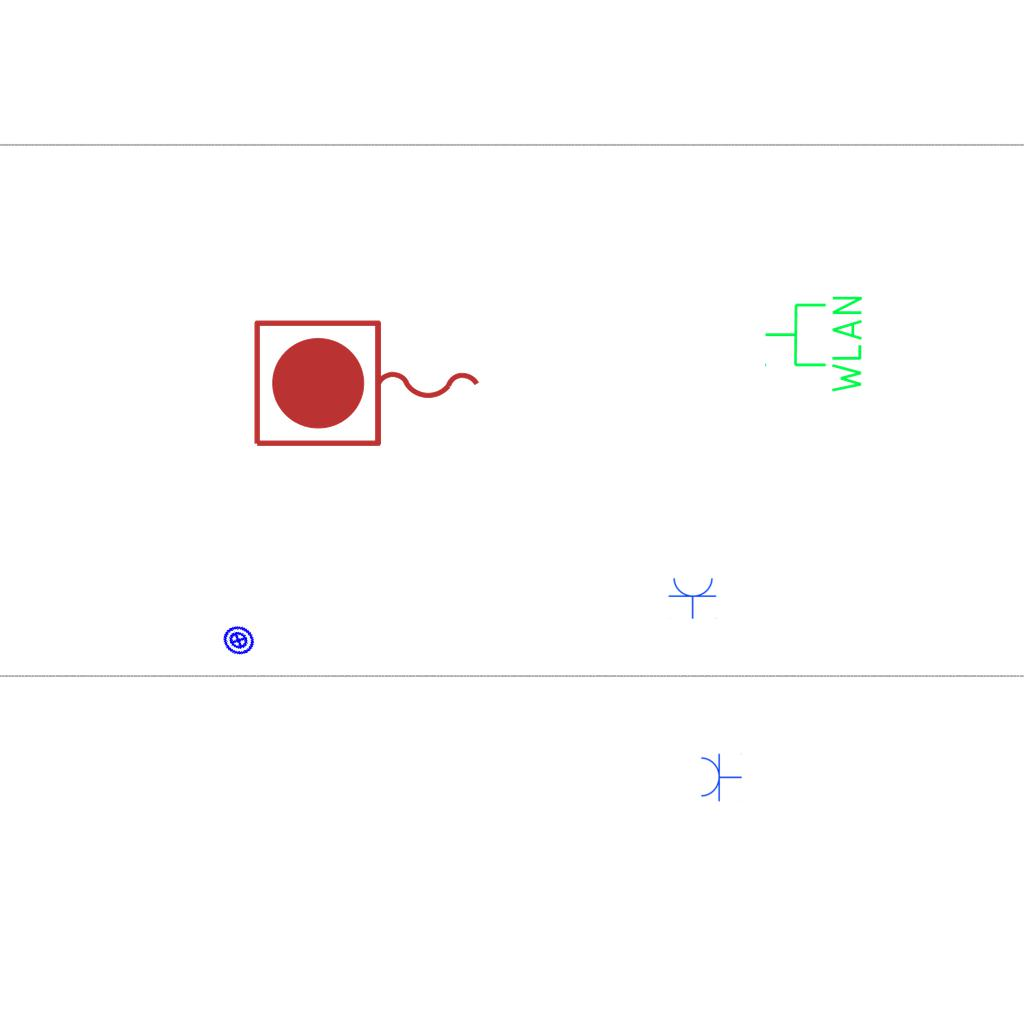Schukosteckdose_einfach: (668, 576, 718, 619), (699, 752, 742, 802)
Taster_beleuchtet: (216, 618, 261, 663)
WLAN: (762, 292, 866, 397)
Zugtaster: (246, 313, 490, 457)
